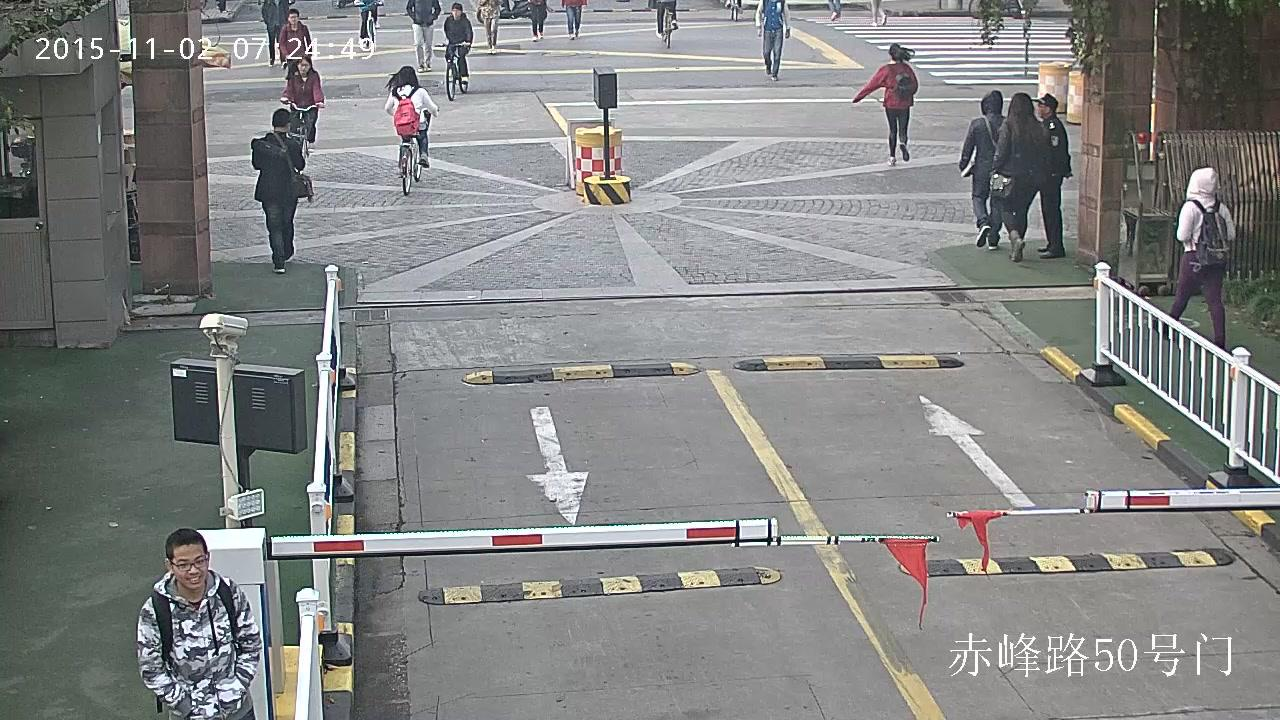person: (136, 527, 263, 720), (1151, 166, 1233, 350), (250, 108, 312, 272), (990, 92, 1047, 262), (852, 43, 918, 166), (959, 90, 1006, 249), (384, 65, 439, 195), (1031, 93, 1071, 259), (385, 65, 439, 167), (280, 54, 323, 157), (280, 54, 323, 142), (443, 2, 472, 100), (756, 0, 790, 81), (405, 0, 439, 72), (280, 8, 312, 81), (444, 2, 472, 83), (262, 0, 288, 64), (656, 0, 678, 49), (480, 0, 499, 54), (562, 0, 587, 40), (359, 0, 378, 48), (359, 0, 378, 39), (657, 0, 678, 34), (530, 0, 546, 42), (870, 0, 887, 26), (728, 0, 741, 20), (828, 0, 839, 20)
